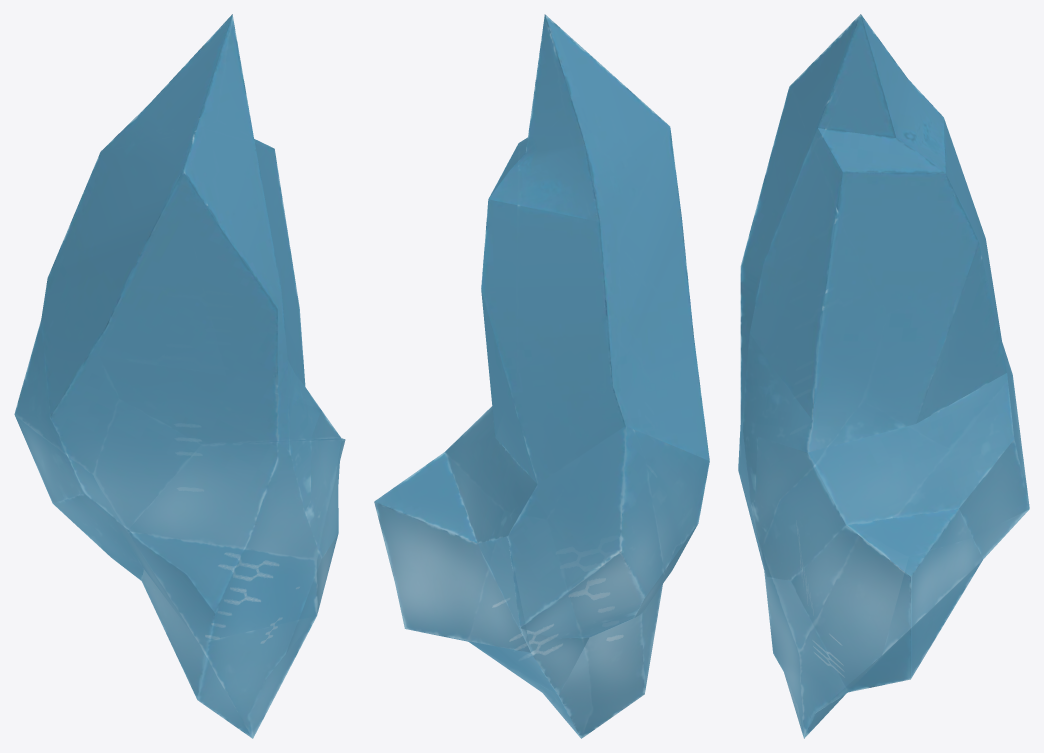
Rendered from crystal-transformed.glb.
3 views of the same model, side by side, from view 1: azimuth 30°, elevation 25°; view 2: azimuth 150°, elevation 25°; view 3: azimuth 270°, elevation 25° (orthographic). The views are drawn at different scales.
Parts seen in each view (by area): view 1: Object_4; view 2: Object_4; view 3: Object_4.
Boxes of the visible parts, <box> form: Object_4: <box>14,14,345,738</box>; Object_4: <box>374,14,709,738</box>; Object_4: <box>738,14,1029,738</box>.
Size of the model in its own units: 1.63 by 3.57 by 1.3.
Materials: 2 (2 with a texture image).
